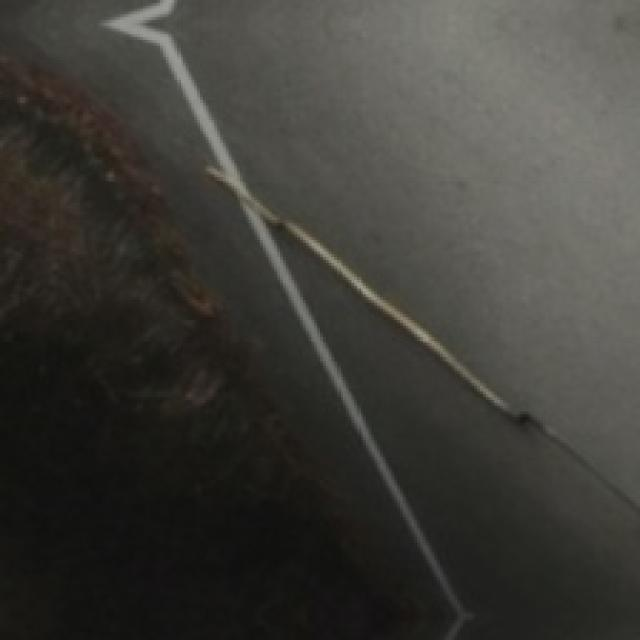king cobra: (0, 29, 434, 637)
